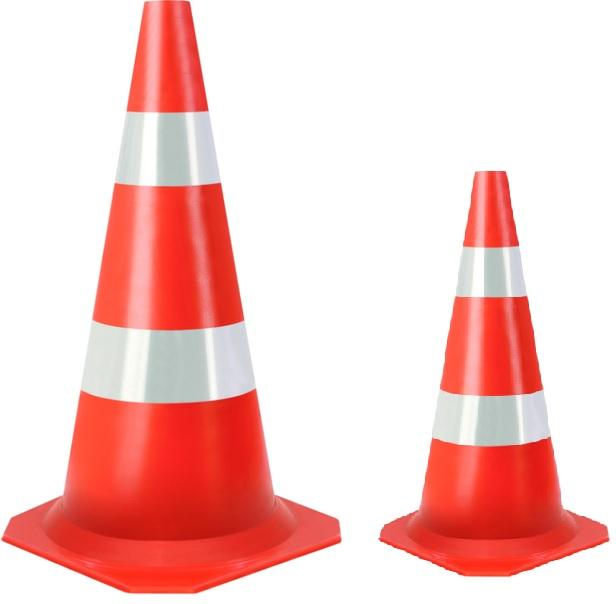traffic_cone: (1, 0, 342, 595), (378, 169, 609, 578)
